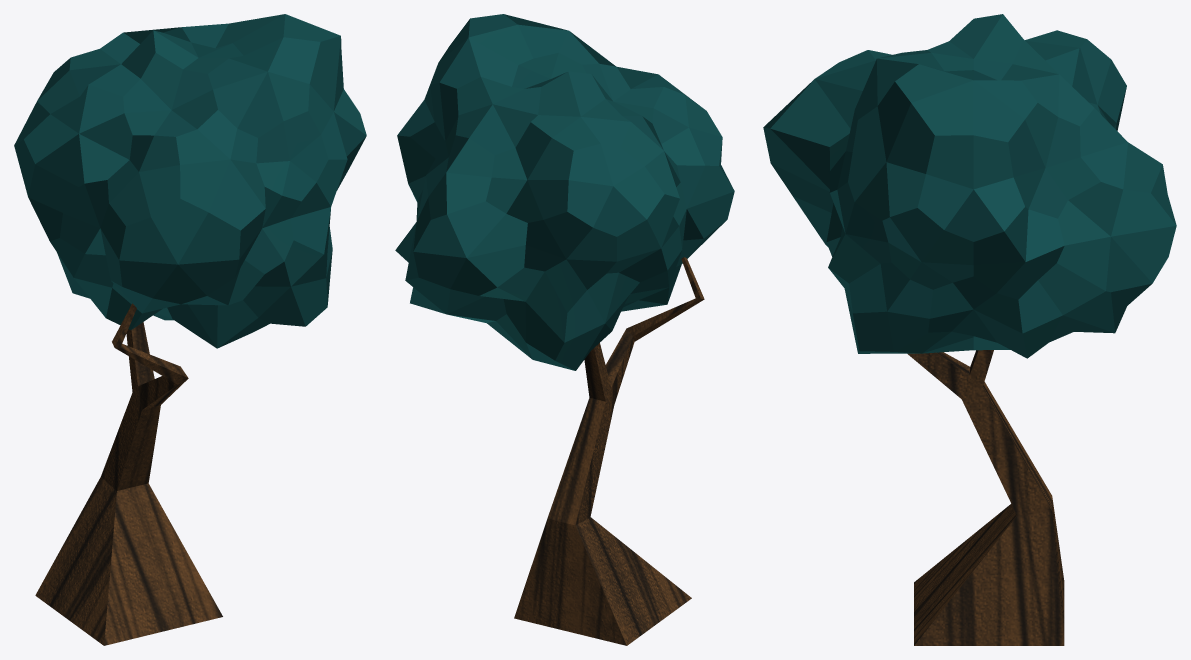
Rendered from Buildings_Tree_1.fbx.
The picture shows the model from 3 angles, left to right: view 1: azimuth 30°, elevation 25°; view 2: azimuth 150°, elevation 25°; view 3: azimuth 270°, elevation 25°; orthographic projection. The views are drawn at different scales.
Visible parts, largest first — view 1: Tree_1; view 2: Tree_1; view 3: Tree_1.
Part boxes in pixels (left/top/right/bottom): Tree_1: left=14, top=14, right=366, bottom=645; Tree_1: left=395, top=14, right=734, bottom=645; Tree_1: left=763, top=14, right=1176, bottom=645.
Bounding box in the file's own units: 244 × 440 × 268.
